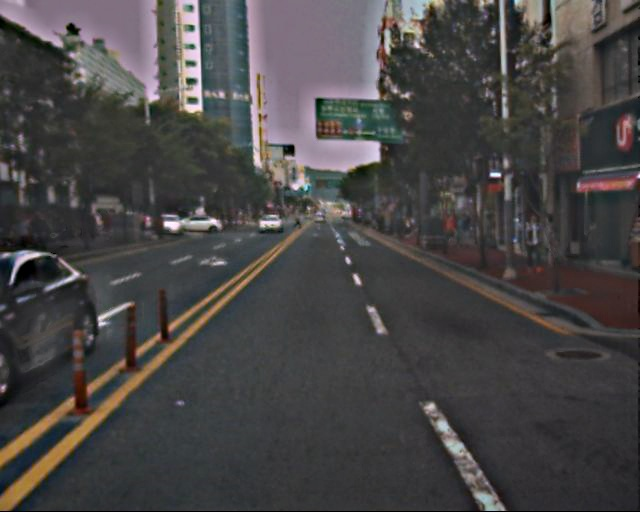person: (516, 215, 546, 277), (540, 215, 564, 274)
